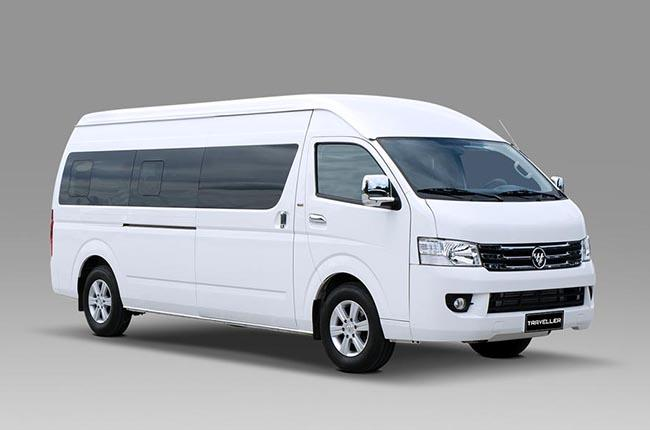van: (49, 92, 597, 374)
